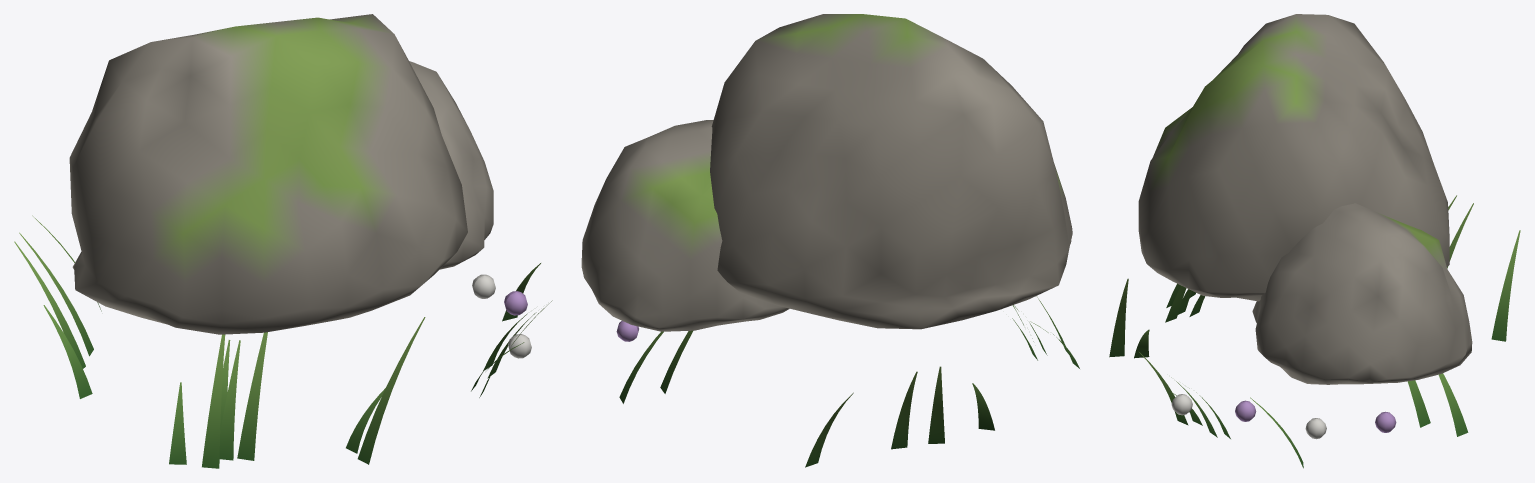
File: piedra_grande.glb
3 renders of one model, left to right at view 1: azimuth 30°, elevation 25°; view 2: azimuth 150°, elevation 25°; view 3: azimuth 270°, elevation 25°, orthographic. The views are drawn at different scales.
Parts seen in each view (by area): view 1: piedra_grande_malla; view 2: piedra_grande_malla; view 3: piedra_grande_malla.
Boxes of the visible parts, x1,y1,x2,y2 form: piedra_grande_malla: [14, 14, 552, 468]; piedra_grande_malla: [581, 14, 1079, 467]; piedra_grande_malla: [1109, 14, 1520, 468].
Bounding box in the file's own units: 0.9175 × 0.7164 × 0.8447.
